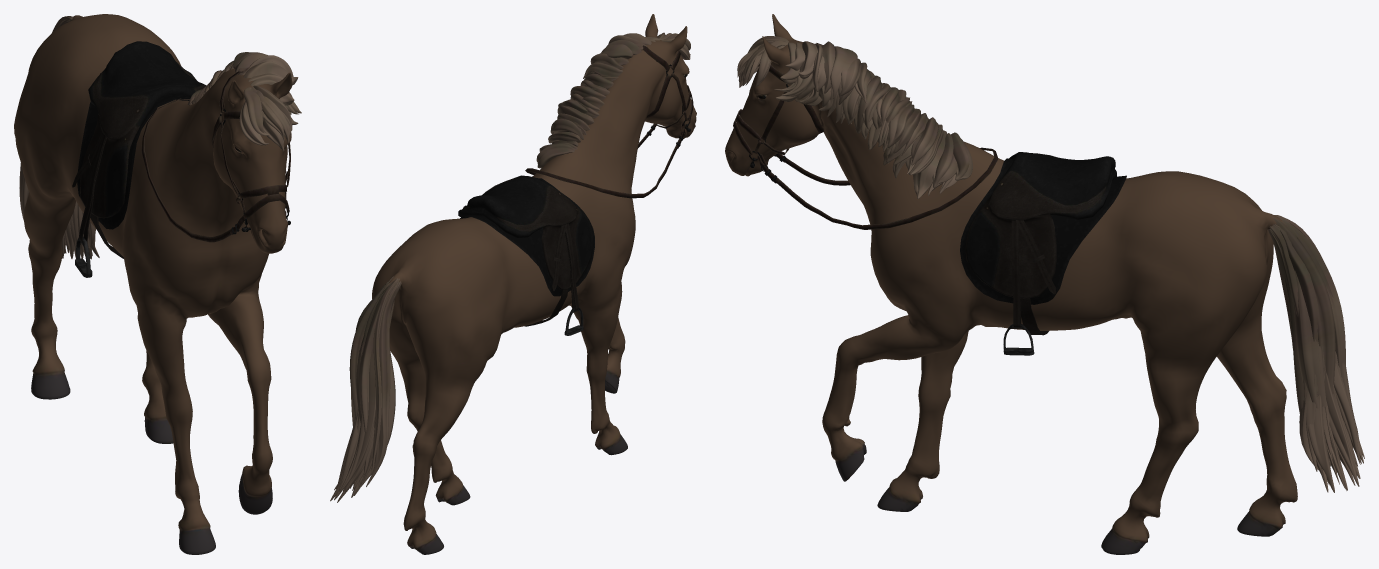
Rendered from COSSACK_SPUTNIK_4#10.glb.
The picture shows the model from 3 angles, left to right: view 1: azimuth 30°, elevation 25°; view 2: azimuth 150°, elevation 25°; view 3: azimuth 270°, elevation 25°; orthographic projection. The views are drawn at different scales.
Visible parts, largest first — view 1: Hair.6-Horse_Sub, Hair.7-Reigns_Sub, Hair.4-Reigns_Sub, Hair.5-Reigns_Sub; view 2: Hair.6-Horse_Sub, Hair.4-Reigns_Sub, Hair.7-Reigns_Sub, Hair.5-Reigns_Sub; view 3: Hair.6-Horse_Sub, Hair.4-Reigns_Sub, Hair.7-Reigns_Sub, Hair.5-Reigns_Sub.
Part boxes in pixels (x1,y1,x2,y2): Hair.6-Horse_Sub: (14,14,292,554); Hair.7-Reigns_Sub: (72,41,206,277); Hair.4-Reigns_Sub: (19,15,301,259); Hair.5-Reigns_Sub: (141,71,290,242); Hair.6-Horse_Sub: (372,14,696,554); Hair.4-Reigns_Sub: (330,32,690,502); Hair.7-Reigns_Sub: (458,175,594,335); Hair.5-Reigns_Sub: (525,45,693,198); Hair.6-Horse_Sub: (725,14,1297,554); Hair.4-Reigns_Sub: (737,36,1364,492); Hair.7-Reigns_Sub: (960,152,1126,355); Hair.5-Reigns_Sub: (733,43,998,229).
Bounding box in the file's own units: 4.31 × 11.7 × 14.11.
4 materials, 4 textured.
